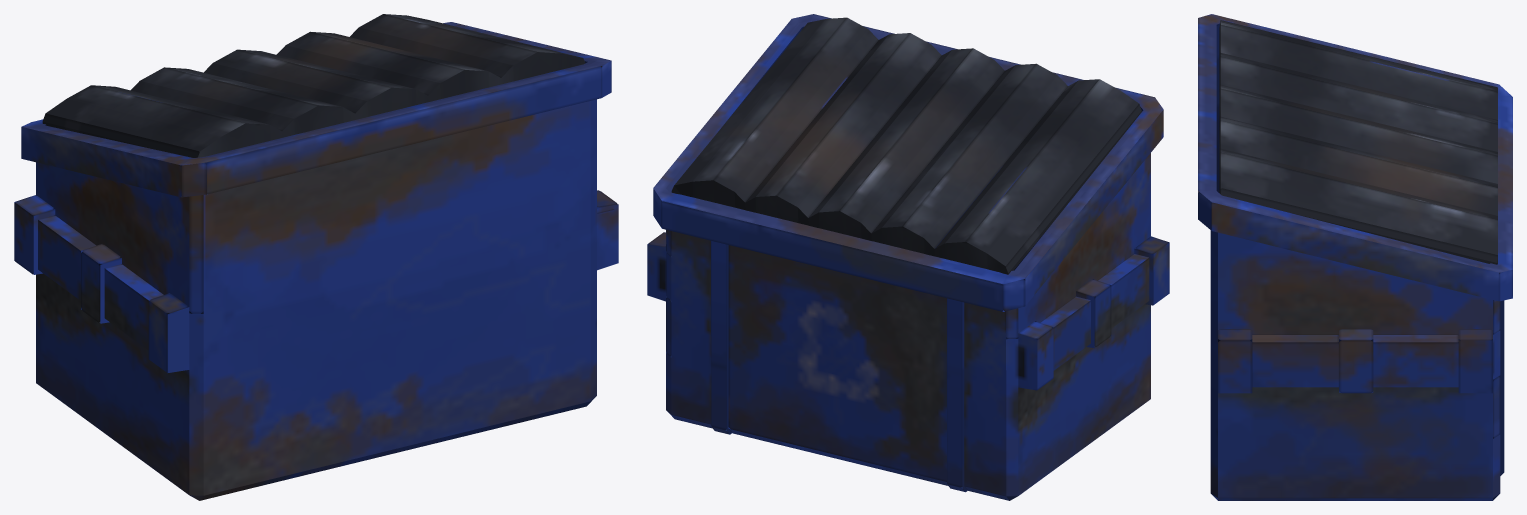
File: Dumpster.fbx
3 renders of one model, left to right at view 1: azimuth 30°, elevation 25°; view 2: azimuth 150°, elevation 25°; view 3: azimuth 270°, elevation 25°, orthographic. The views are drawn at different scales.
Visible parts, largest first — view 1: Body, Lid; view 2: Body, Lid; view 3: Body, Lid.
Part boxes in pixels (x1=…): Body: x1=14, y1=22, x2=618, y2=500; Lid: x1=42, y1=14, x2=585, y2=157; Body: x1=647, y1=14, x2=1169, y2=500; Lid: x1=671, y1=17, x2=1141, y2=274; Body: x1=1198, y1=14, x2=1512, y2=500; Lid: x1=1219, y1=20, x2=1497, y2=264.
Bounding box in the file's own units: 277 × 214 × 186.
Materials: 1 (1 with a texture image).
